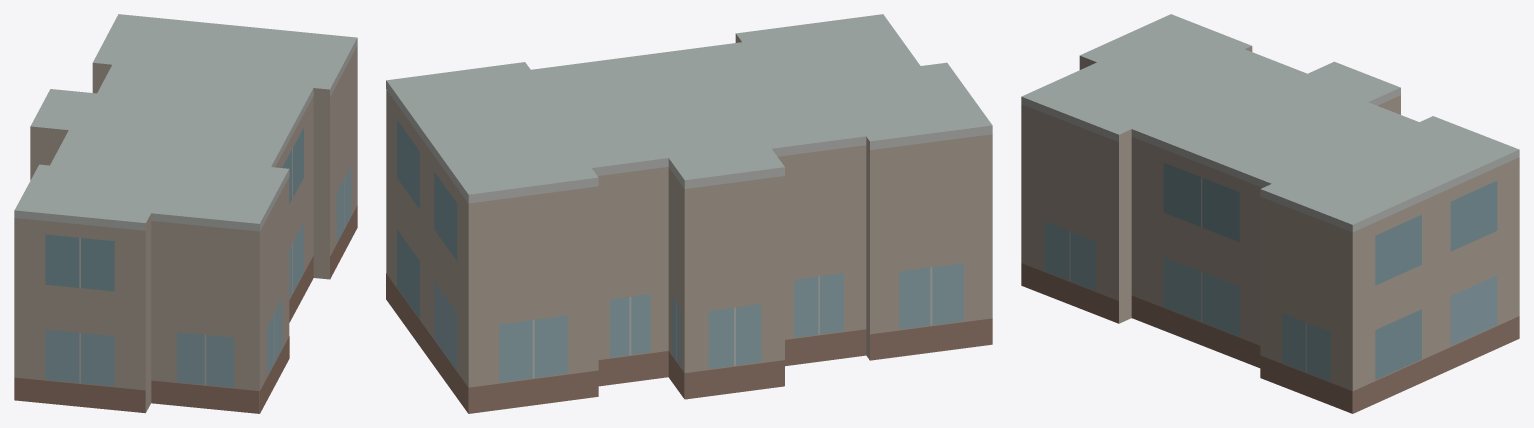
The model's file is survey-upis-32810874.glb.
3 renders of one model, left to right at view 1: azimuth 30°, elevation 25°; view 2: azimuth 150°, elevation 25°; view 3: azimuth 270°, elevation 25°, orthographic. The views are drawn at different scales.
Parts seen in each view (by area): view 1: survey-upis-32810874.tmp; view 2: survey-upis-32810874.tmp; view 3: survey-upis-32810874.tmp.
Part boxes in pixels (x1,y1,x2,y2): survey-upis-32810874.tmp: (14,14,357,413); survey-upis-32810874.tmp: (386,14,992,413); survey-upis-32810874.tmp: (1021,14,1519,413).
Bounding box in the file's own units: 14.61 × 6.1 × 14.58.
